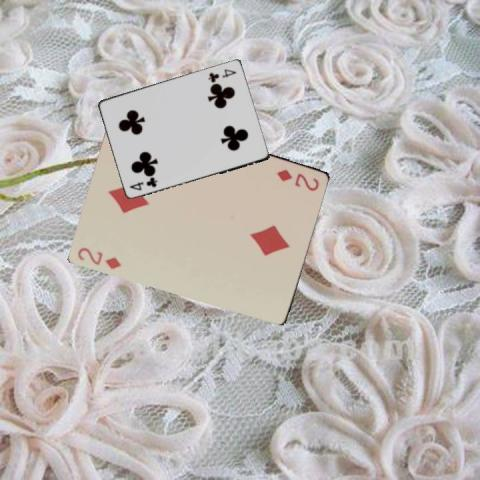2d: (75, 244, 123, 271), (274, 166, 320, 192)
4c: (205, 66, 238, 83), (126, 176, 158, 192)
